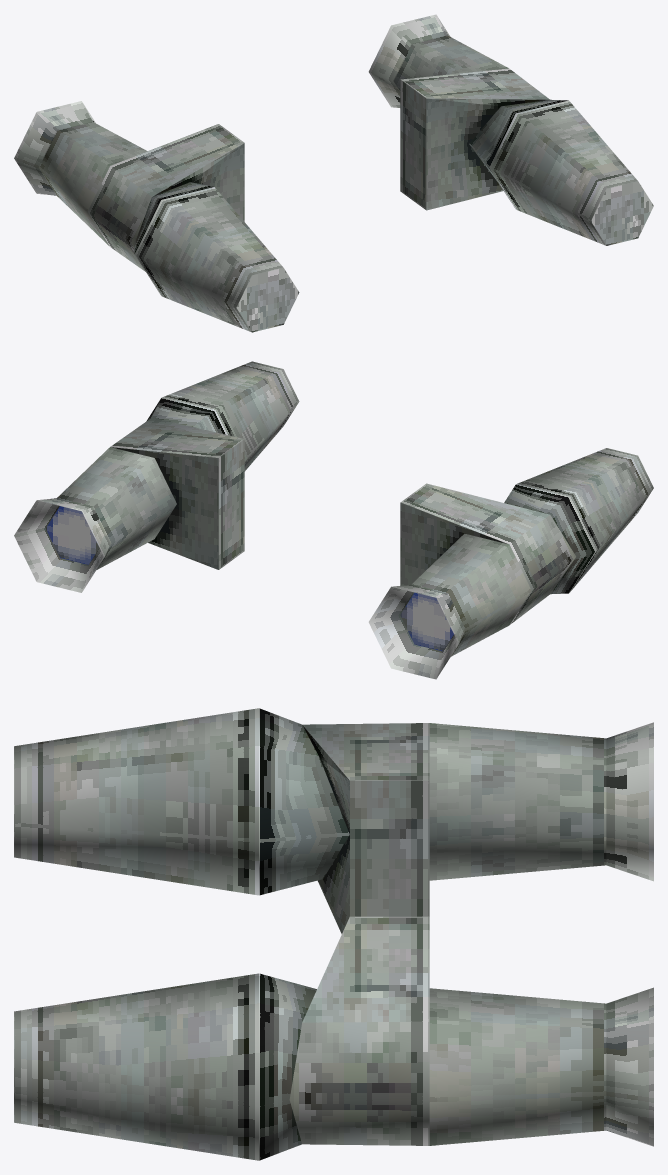
The model's file is bwing_booster_s01_l2.fbx.
The picture shows the model from 3 angles, top to bottom: view 1: azimuth 30°, elevation 25°; view 2: azimuth 150°, elevation 25°; view 3: azimuth 270°, elevation 25°; orthographic projection. The views are drawn at different scales.
Visible parts, largest first — view 1: mesh_node; view 2: mesh_node; view 3: mesh_node.
Part boxes in pixels (left/top/right/bottom): mesh_node: left=14, top=14, right=653, bottom=332; mesh_node: left=14, top=361, right=653, bottom=679; mesh_node: left=14, top=708, right=653, bottom=1160.
Size of the model in its own units: 2.07 by 0.4797 by 1.62.
